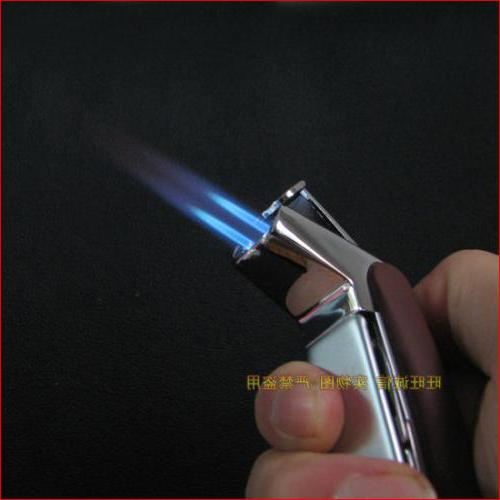fire: (125, 137, 273, 261)
